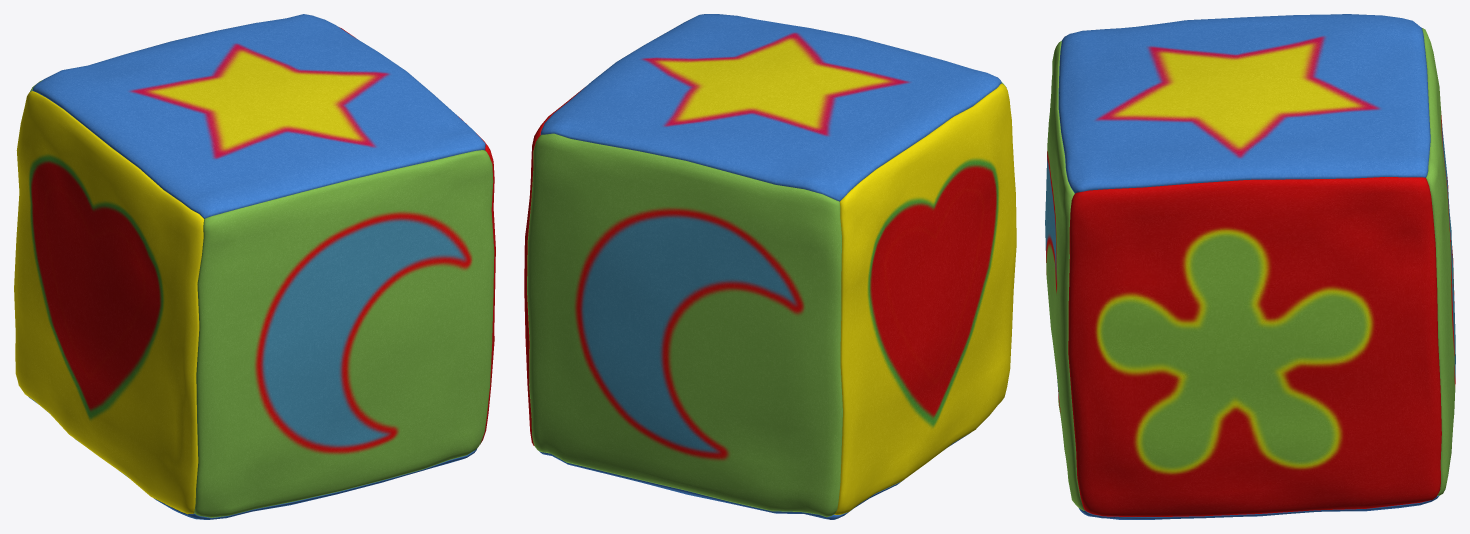
The model's file is Pillow.glb.
3 renders of one model, left to right at view 1: azimuth 30°, elevation 25°; view 2: azimuth 150°, elevation 25°; view 3: azimuth 270°, elevation 25°, orthographic. The views are drawn at different scales.
Visible parts, largest first — view 1: Pillow; view 2: Pillow; view 3: Pillow.
Boxes of the visible parts, x1=… form: Pillow: x1=14, y1=14, x2=495, y2=519; Pillow: x1=524, y1=14, x2=1016, y2=519; Pillow: x1=1045, y1=14, x2=1455, y2=519.
Size of the model in its own units: 0.0128 by 0.0128 by 0.0129.
1 material, 1 textured.
